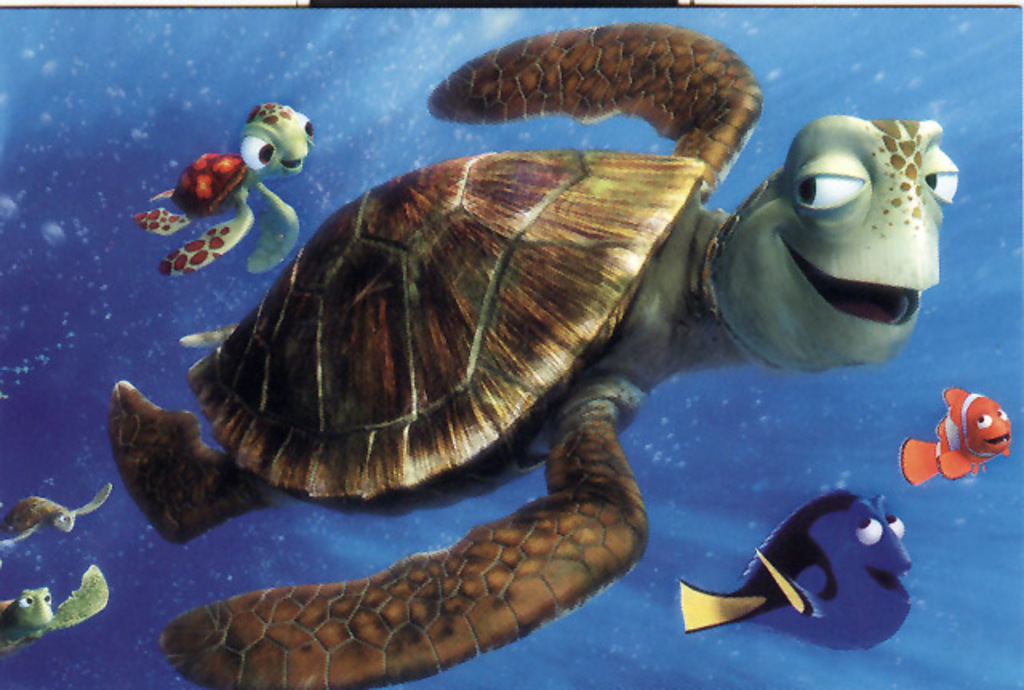Sea turtles: (103, 17, 961, 688)
